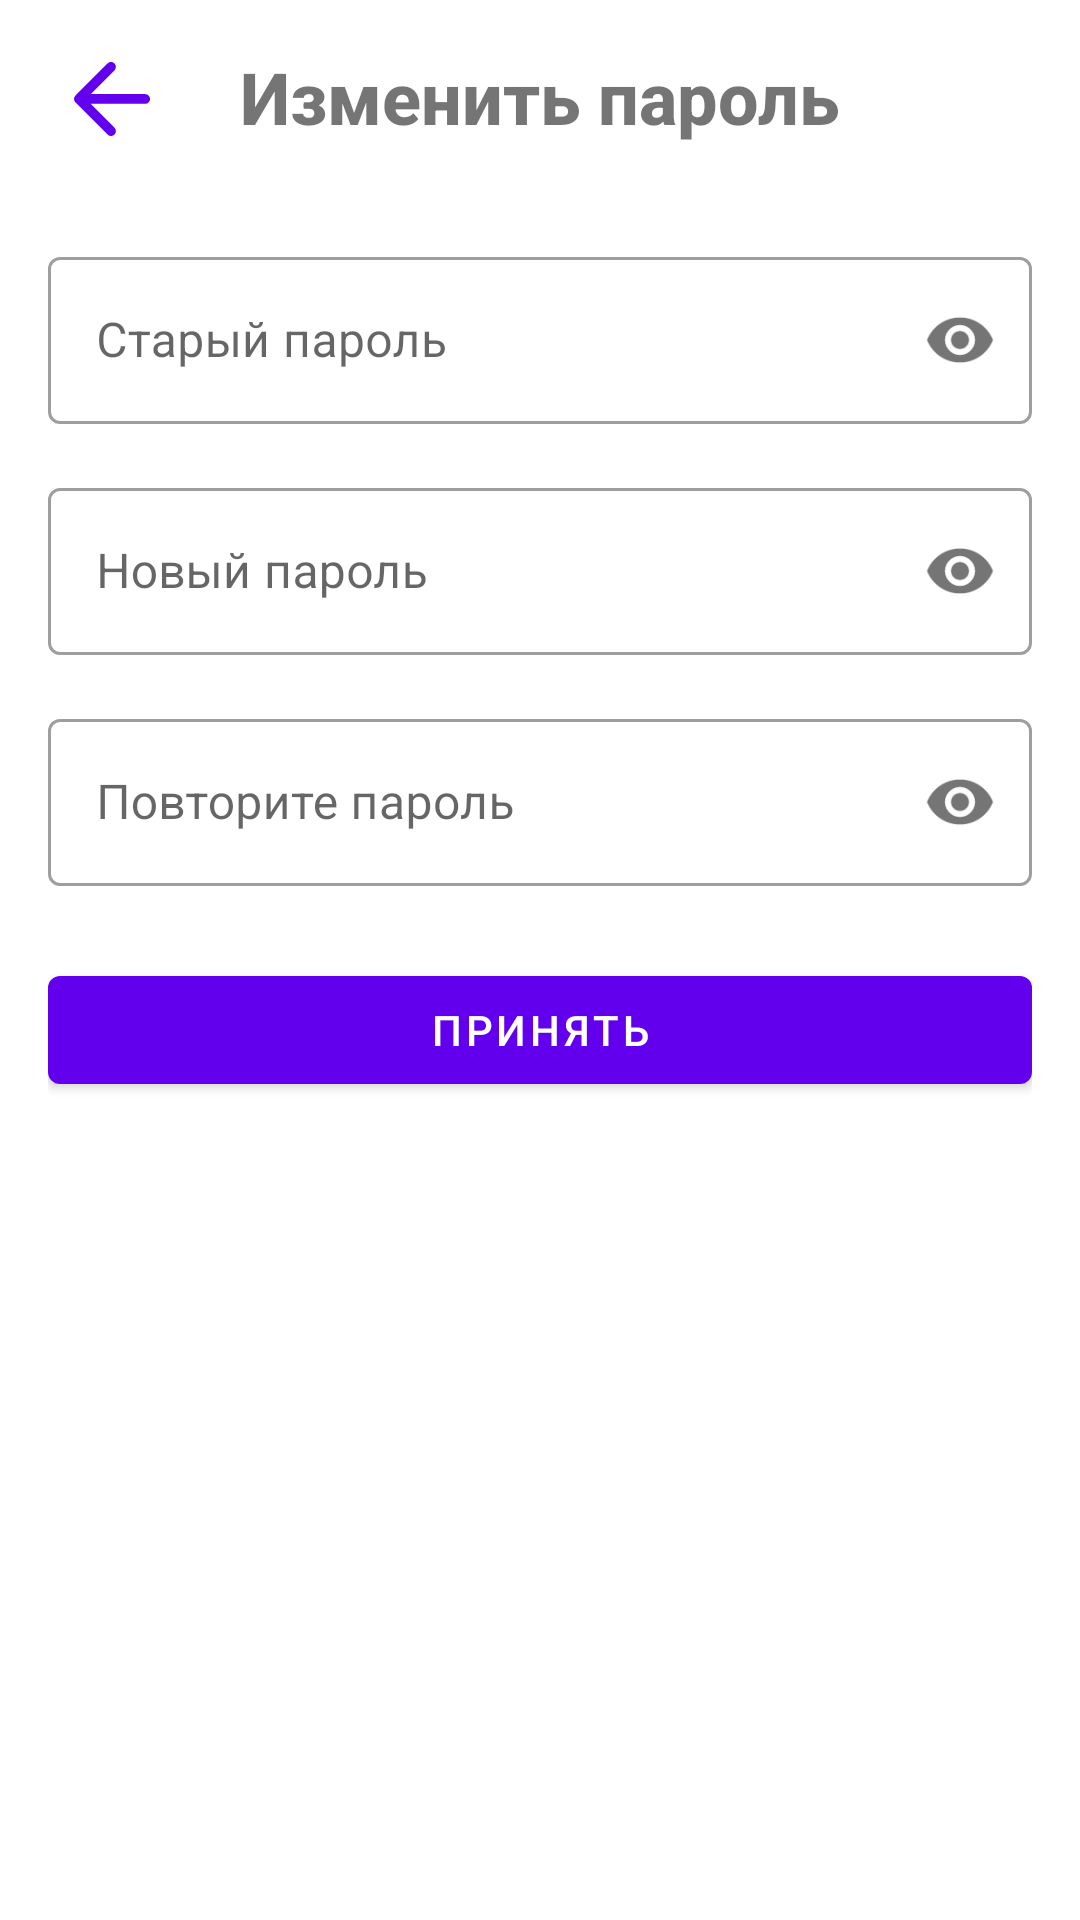

Locate icon controls on the screen. Image size 1080px x 1920px, boxes as [x1=x1, y1=y1, x2=x2, y2=y2].
back: [x1=74, y1=62, x2=150, y2=136]
